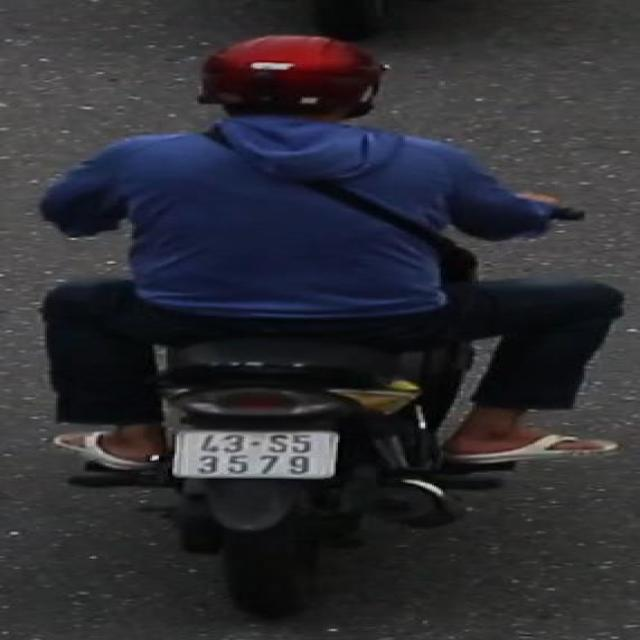LP: (163, 426, 347, 486)
helmet: (182, 29, 398, 140)
